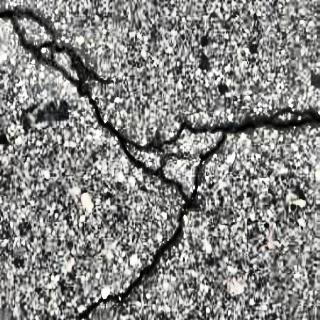crack: (0, 5, 189, 204), (135, 107, 320, 197), (78, 209, 189, 320)
